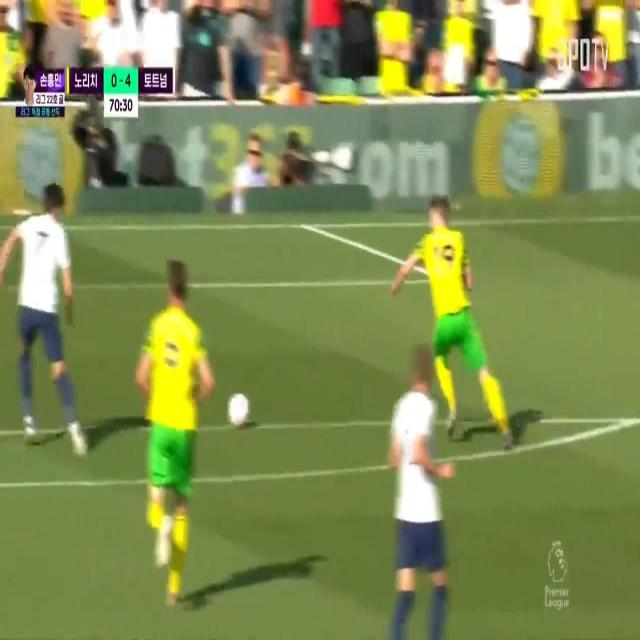ball: (226, 380, 254, 431)
player: (399, 205, 528, 457), (136, 258, 210, 617), (382, 344, 458, 640), (2, 176, 78, 458)
